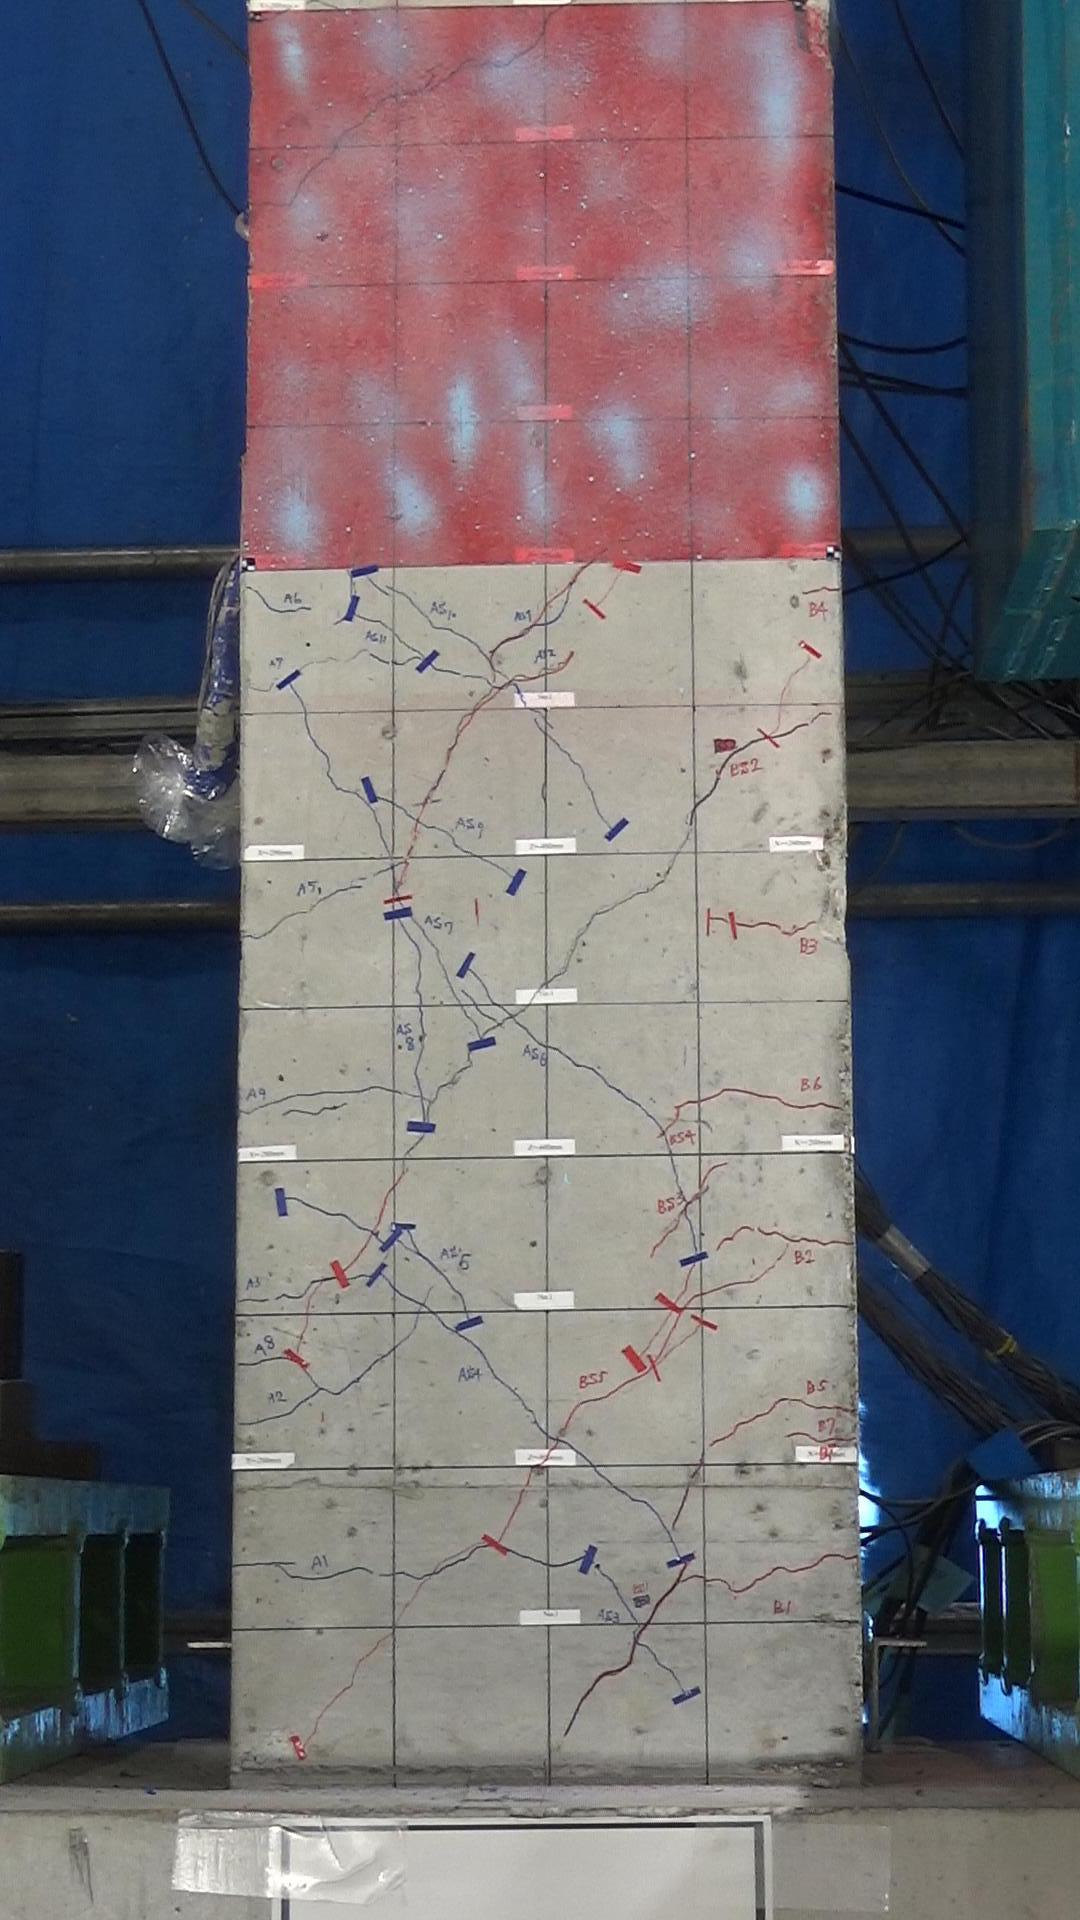Bond Crack: (407, 953, 429, 1000), (410, 1043, 426, 1088), (414, 1085, 429, 1126), (415, 1000, 427, 1042)
Flexure Crack: (765, 913, 820, 942), (363, 647, 421, 669), (782, 1097, 844, 1114), (727, 1083, 770, 1102), (686, 1091, 731, 1109), (737, 920, 764, 932), (712, 915, 729, 926)
Shear Crack: (527, 717, 570, 756), (389, 584, 429, 616), (367, 815, 394, 858), (456, 851, 504, 876), (323, 767, 357, 802), (585, 793, 615, 832), (411, 814, 450, 840), (417, 1258, 452, 1284), (570, 760, 595, 796), (452, 703, 477, 736), (574, 913, 597, 945), (429, 618, 465, 640), (589, 1063, 617, 1091), (447, 1290, 473, 1319), (665, 1159, 686, 1195), (649, 1229, 669, 1265), (492, 1000, 520, 1025), (527, 1029, 554, 1054), (393, 920, 415, 949), (560, 1048, 585, 1073), (302, 723, 323, 752), (295, 1317, 313, 1353), (375, 1193, 393, 1226), (440, 1064, 473, 1083), (766, 704, 786, 735), (290, 684, 310, 715), (376, 796, 410, 814), (653, 1131, 674, 1159), (326, 1207, 355, 1226), (680, 818, 698, 851), (620, 887, 655, 903), (624, 1091, 647, 1114), (467, 971, 489, 996), (729, 738, 766, 753), (404, 1134, 426, 1158), (438, 953, 451, 993), (665, 848, 680, 881), (290, 1195, 316, 1215), (700, 1163, 727, 1183), (307, 1283, 326, 1311), (691, 793, 713, 815), (393, 1162, 410, 1189), (446, 732, 462, 761), (404, 849, 418, 878), (434, 762, 447, 794), (450, 1002, 469, 1023), (336, 1255, 357, 1275), (406, 1232, 425, 1254), (713, 760, 727, 790), (687, 1188, 709, 1205), (435, 1083, 448, 1110), (360, 1230, 375, 1255), (669, 1102, 686, 1124), (781, 674, 795, 698), (465, 1019, 483, 1039), (671, 1211, 684, 1232), (653, 1321, 669, 1338), (669, 1317, 680, 1338), (640, 1338, 653, 1356), (659, 1338, 669, 1357)
